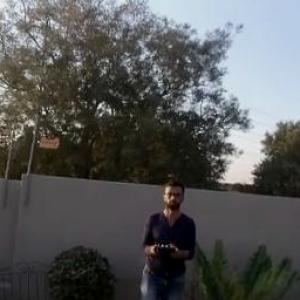follow: (130, 173, 199, 299)
